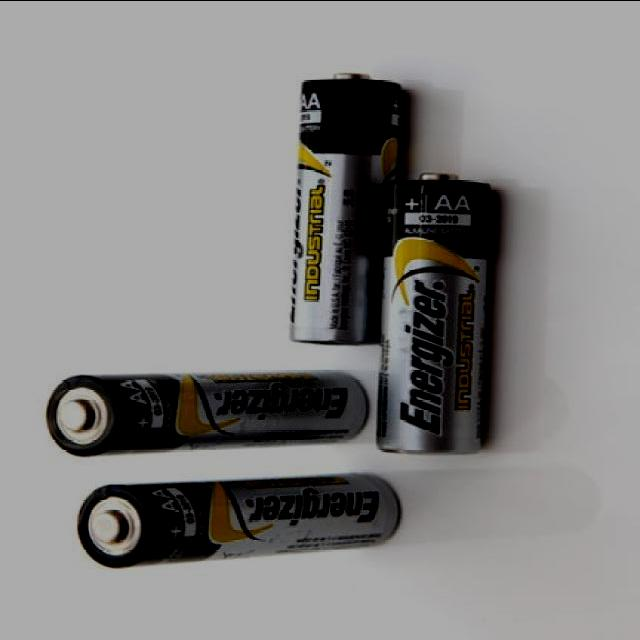AA: (75, 472, 400, 569), (288, 73, 403, 346), (44, 370, 368, 457)
